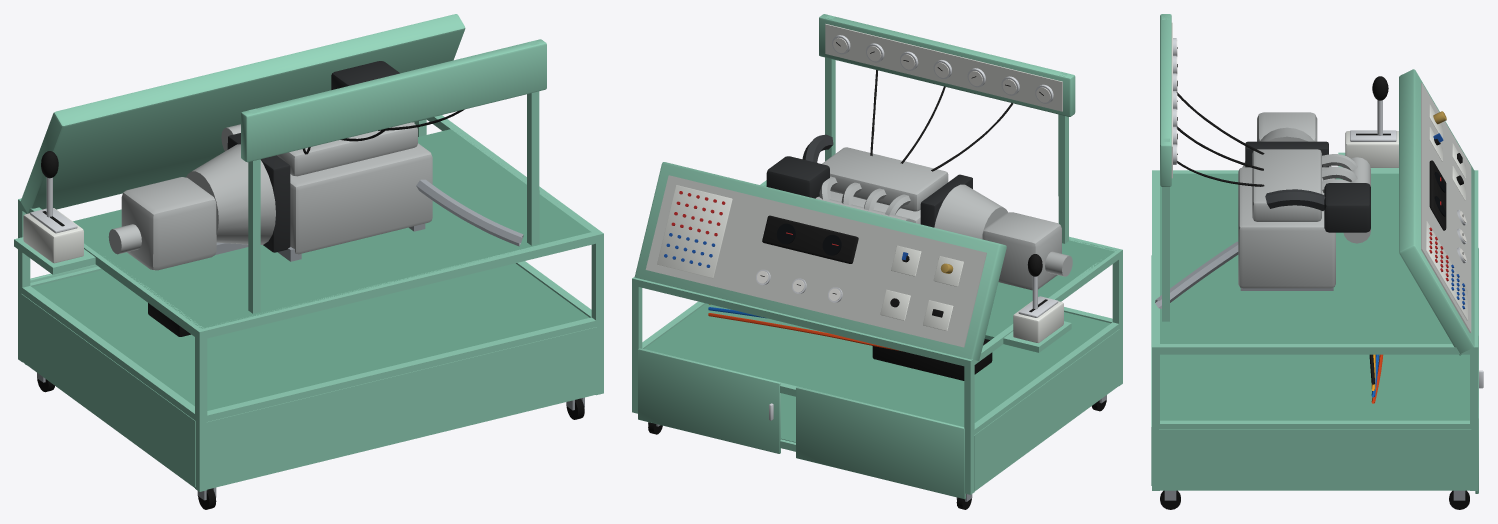
Rendered from transmission-simulator.glb.
3 views of the same model, side by side, from view 1: azimuth 30°, elevation 25°; view 2: azimuth 150°, elevation 25°; view 3: azimuth 270°, elevation 25° (orthographic). The views are drawn at different scales.
Parts seen in each view (by area): view 1: Body; view 2: Body; view 3: Body.
Boxes of the visible parts, bbox=[...] form: Body: bbox=[14, 14, 603, 509]; Body: bbox=[632, 14, 1122, 509]; Body: bbox=[1151, 14, 1483, 509].
Bounding box in the file's own units: 1.99 × 1.65 × 1.42.
